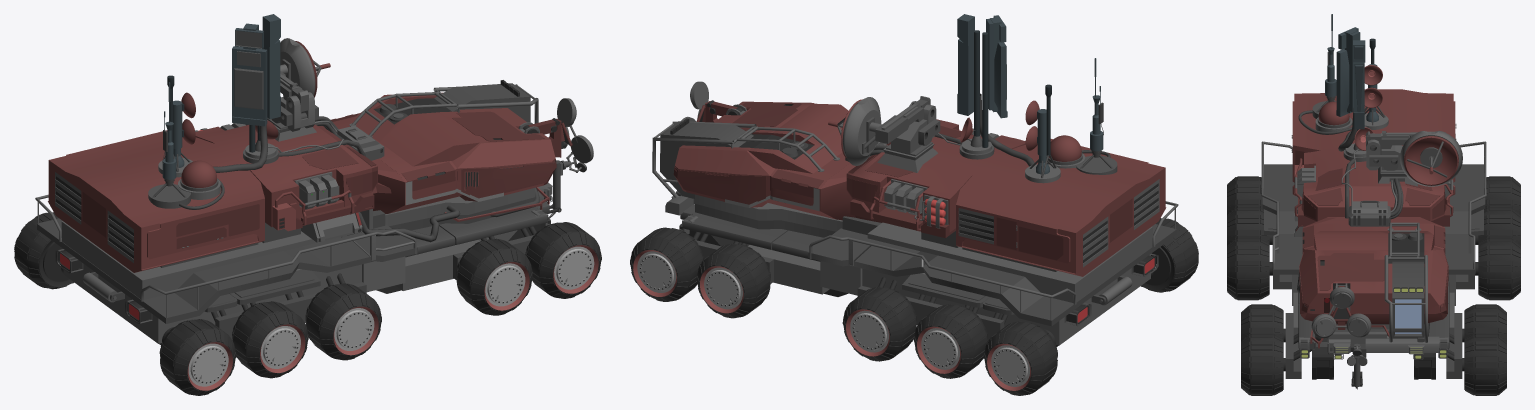
The model's file is moon_rover_color.fbx.
3 renders of one model, left to right at view 1: azimuth 30°, elevation 25°; view 2: azimuth 150°, elevation 25°; view 3: azimuth 270°, elevation 25°, orthographic. The views are drawn at different scales.
Visible parts, largest first — view 1: Cube, Cube.019, Cylinder.163, Cube.005, Cube.016, Cube.055, Cylinder.160, Cylinder.161, Cylinder.162, Cylinder.001, Cube.003, Cube.027 (+35 smaller); view 2: Cube, Cube.019, Cylinder.163, Cube.016, Cube.005, Cylinder.160, Cylinder.161, Cylinder.162, Cylinder.001, Cube.055, Cube.003, Cube.026 (+36 smaller); view 3: Cube.019, Cube.003, Cylinder.161, Cylinder.001, Cube, Cube.005, Cylinder.160, Cylinder.162, Cube.013, Cylinder.163, Cube.055, Cube.129 (+40 smaller).
Boxes of the visible parts, x1=… form: Cube: x1=48, y1=130, x2=264, y2=272; Cube.019: x1=37, y1=218, x2=417, y2=323; Cylinder.163: x1=14, y1=212, x2=236, y2=395; Cube.005: x1=195, y1=124, x2=377, y2=227; Cube.016: x1=61, y1=221, x2=353, y2=299; Cube.055: x1=350, y1=94, x2=479, y2=166; Cylinder.160: x1=456, y1=238, x2=532, y2=315; Cylinder.161: x1=305, y1=283, x2=381, y2=360; Cylinder.162: x1=232, y1=301, x2=308, y2=378; Cylinder.001: x1=525, y1=222, x2=601, y2=298; Cube.003: x1=412, y1=92, x2=555, y2=201; Cube.027: x1=63, y1=250, x2=361, y2=343; Cube: x1=956, y1=139, x2=1166, y2=276; Cube.019: x1=808, y1=224, x2=1176, y2=326; Cylinder.163: x1=984, y1=218, x2=1198, y2=395; Cube.016: x1=867, y1=222, x2=1152, y2=302; Cube.005: x1=846, y1=119, x2=1025, y2=232; Cylinder.160: x1=696, y1=243, x2=770, y2=318; Cylinder.161: x1=842, y1=287, x2=916, y2=361; Cylinder.162: x1=914, y1=304, x2=987, y2=378; Cylinder.001: x1=630, y1=227, x2=703, y2=301; Cube.055: x1=748, y1=103, x2=848, y2=173; Cube.003: x1=674, y1=101, x2=814, y2=207; Cube.026: x1=680, y1=204, x2=823, y2=261; Cube.019: x1=1262, y1=164, x2=1485, y2=274; Cube.003: x1=1300, y1=247, x2=1447, y2=324; Cylinder.161: x1=1227, y1=237, x2=1520, y2=300; Cylinder.001: x1=1241, y1=333, x2=1506, y2=395; Cube: x1=1292, y1=89, x2=1455, y2=182; Cube.005: x1=1301, y1=147, x2=1446, y2=221; Cylinder.160: x1=1241, y1=304, x2=1506, y2=340; Cylinder.162: x1=1227, y1=206, x2=1520, y2=245; Cube.013: x1=1392, y1=261, x2=1424, y2=338; Cylinder.163: x1=1227, y1=176, x2=1520, y2=214; Cube.055: x1=1314, y1=231, x2=1433, y2=252; Cube.129: x1=1317, y1=253, x2=1384, y2=290.
Size of the model in its own units: 2139 by 1248 by 1320.
